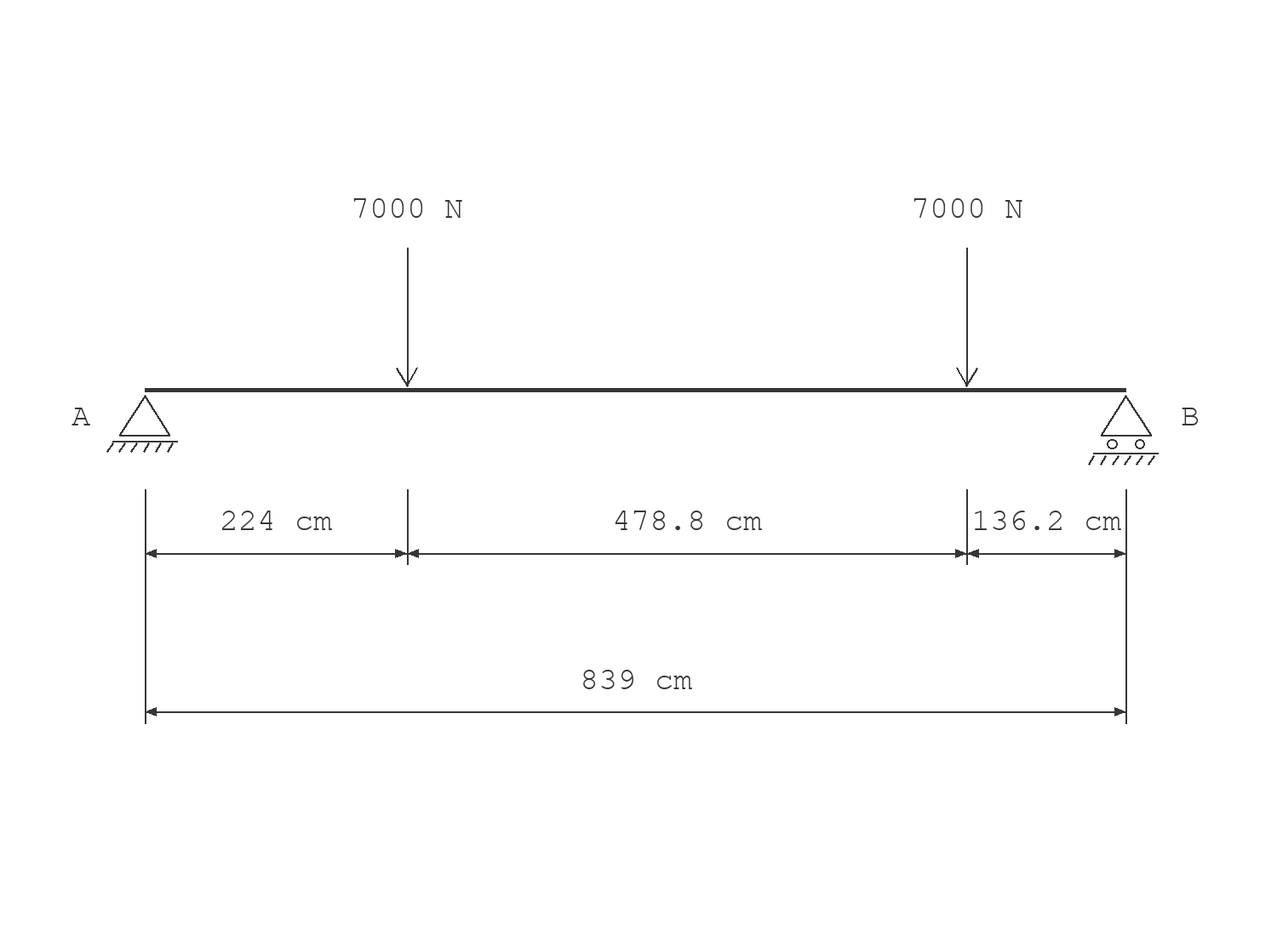pin_support: (106, 395, 178, 453)
point_load: (396, 248, 418, 387), (956, 248, 978, 387)
roller_support: (1088, 395, 1159, 465)
